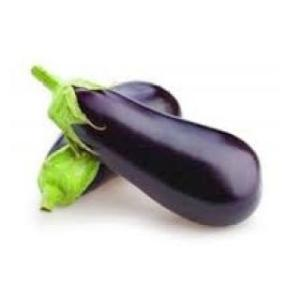eggplant: (54, 77, 260, 227), (36, 81, 180, 209)
